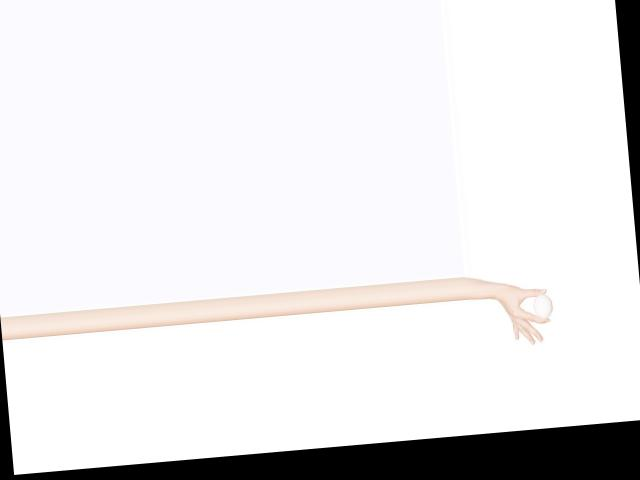egg: (533, 292, 554, 319)
